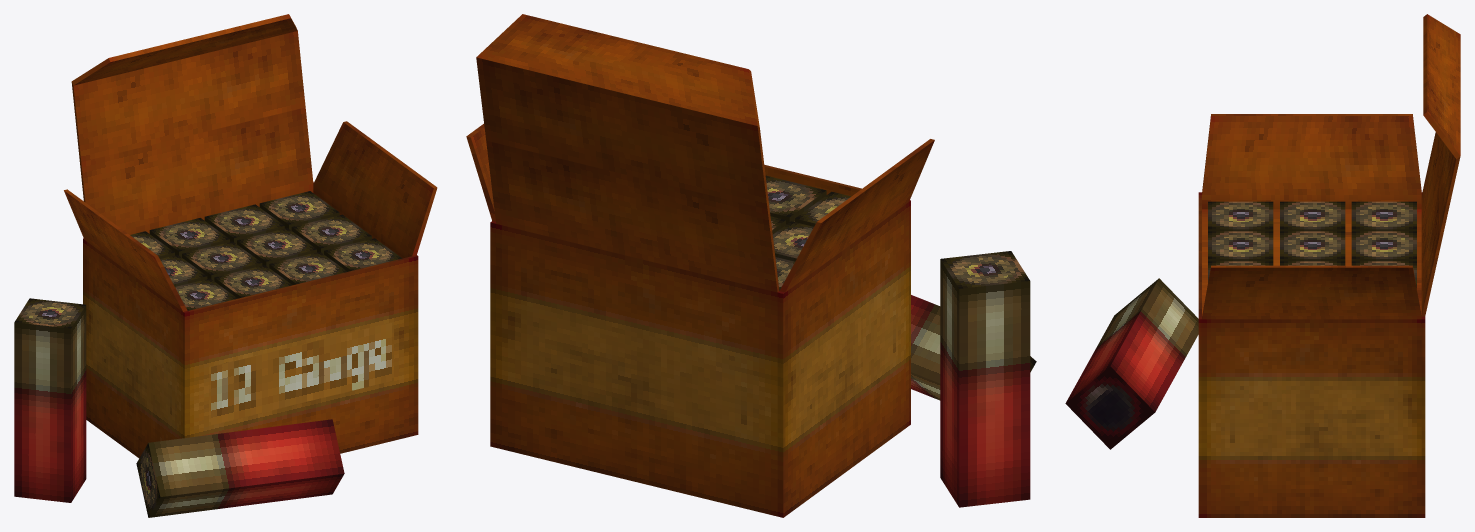
The model's file is Shotgun Ammo.fbx.
3 renders of one model, left to right at view 1: azimuth 30°, elevation 25°; view 2: azimuth 150°, elevation 25°; view 3: azimuth 270°, elevation 25°, orthographic. The views are drawn at different scales.
Visible parts, largest first — view 1: Shotgun Shells; view 2: Shotgun Shells; view 3: Shotgun Shells.
Part boxes in pixels (x1,y1,x2,y2): Shotgun Shells: (14, 14, 437, 517); Shotgun Shells: (466, 14, 1036, 517); Shotgun Shells: (1065, 14, 1460, 517).
Size of the model in its own units: 425 by 365 by 334.
Materials: 1 (1 with a texture image).
